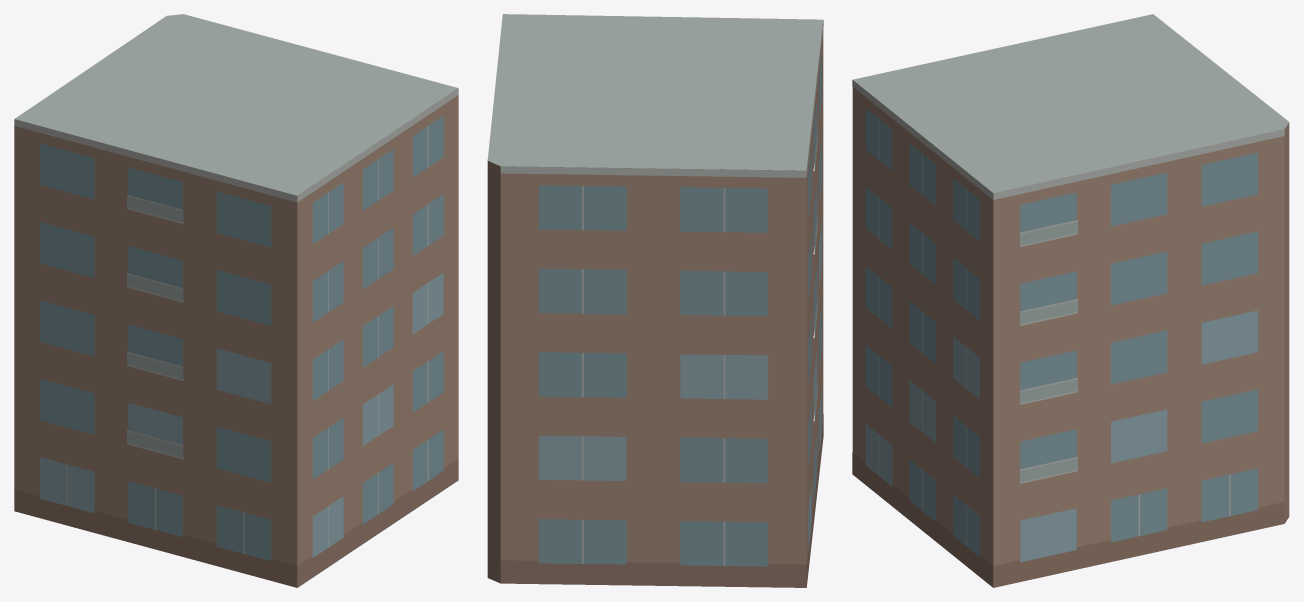
The model's file is survey-upis-32961440.glb.
The picture shows the model from 3 angles, left to right: view 1: azimuth 30°, elevation 25°; view 2: azimuth 150°, elevation 25°; view 3: azimuth 270°, elevation 25°; orthographic projection. The views are drawn at different scales.
Visible parts, largest first — view 1: survey-upis-32961440.tmp; view 2: survey-upis-32961440.tmp; view 3: survey-upis-32961440.tmp.
Boxes of the visible parts, x1,y1,x2,y2 form: survey-upis-32961440.tmp: (14,14,458,587); survey-upis-32961440.tmp: (487,14,823,587); survey-upis-32961440.tmp: (852,14,1289,587).
Size of the model in its own units: 13.74 by 14.1 by 14.16.
